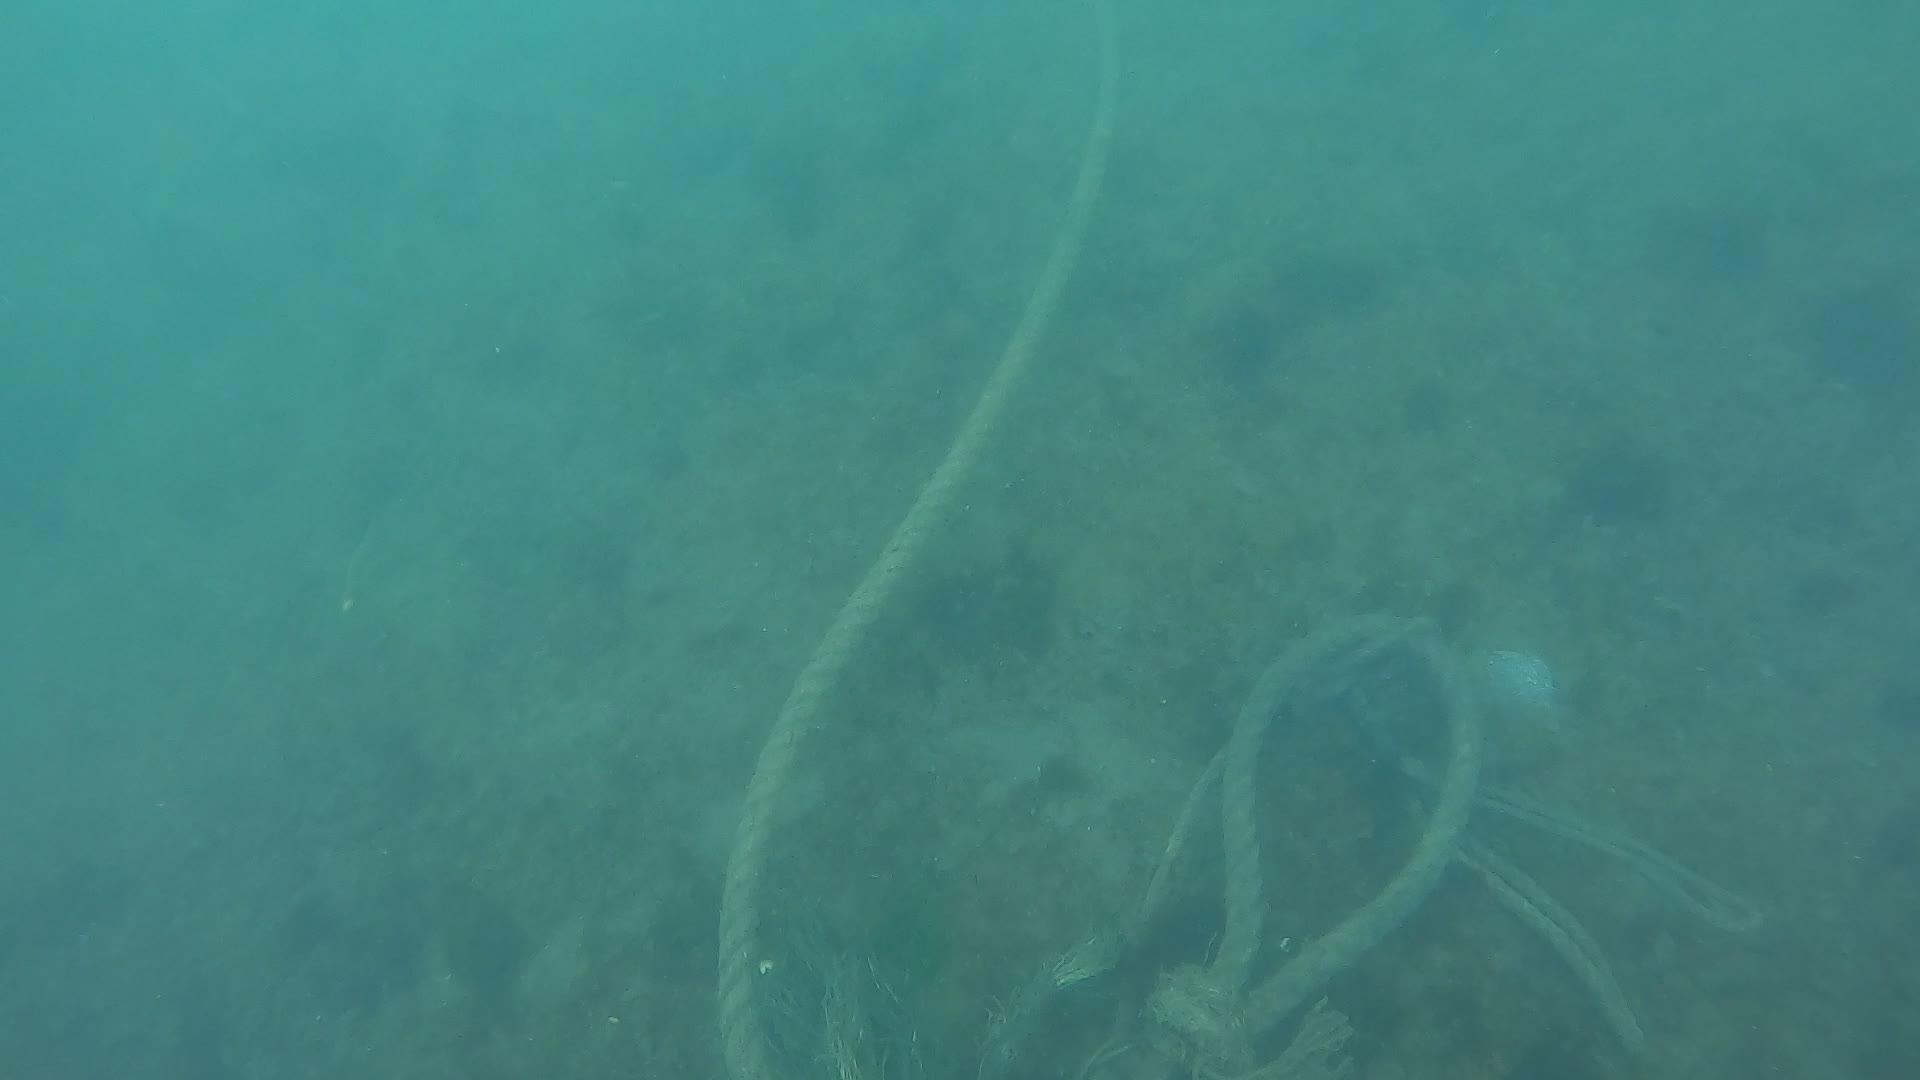bundle of rope: (1213, 607, 1486, 1018)
rope: (709, 0, 1480, 1080), (717, 3, 1131, 1063)
